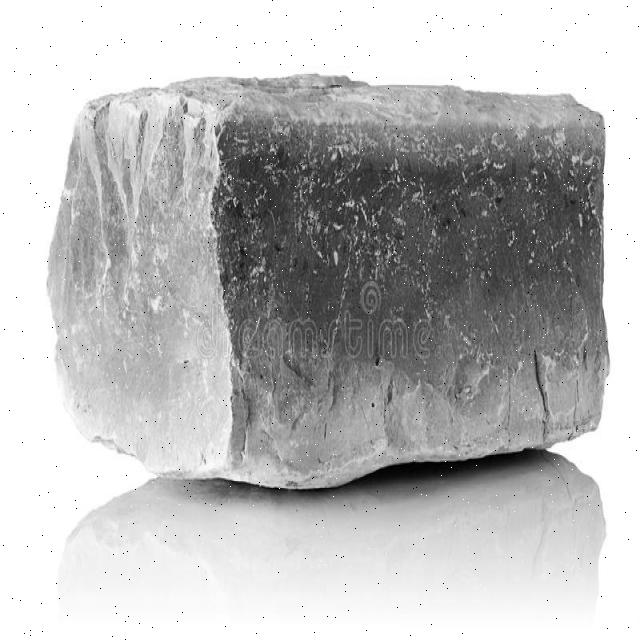Sedimentary: (43, 84, 610, 484)
